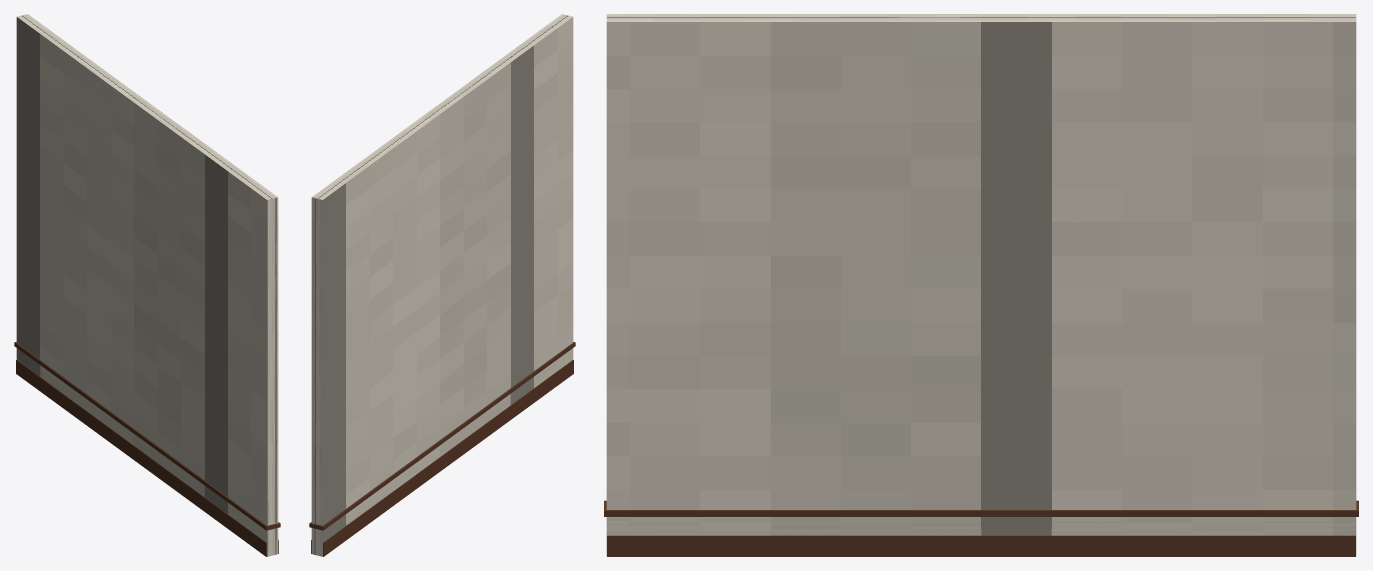
File: cityhall_offices.glb
The picture shows the model from 3 angles, left to right: view 1: azimuth 30°, elevation 25°; view 2: azimuth 150°, elevation 25°; view 3: azimuth 270°, elevation 25°; orthographic projection. The views are drawn at different scales.
Parts seen in each view (by area): view 1: Box1, Box2, Box3, Box4; view 2: Box1, Box2, Box3, Box4; view 3: Box1, Box2, Box3, Box4.
Boxes of the visible parts, box(x1,y1,x2,y2) form: Box1: box(16, 14, 278, 556); Box2: box(16, 360, 278, 556); Box3: box(16, 348, 277, 555); Box4: box(14, 342, 280, 530); Box1: box(311, 14, 573, 556); Box2: box(311, 360, 573, 556); Box3: box(311, 348, 572, 556); Box4: box(309, 342, 575, 530); Box1: box(606, 14, 1356, 555); Box2: box(607, 535, 1355, 556); Box3: box(606, 517, 1356, 553); Box4: box(604, 500, 1358, 516).
Bounding box in the file's own units: 0.19 × 4.6 × 5.89.
2 materials, 1 textured.
